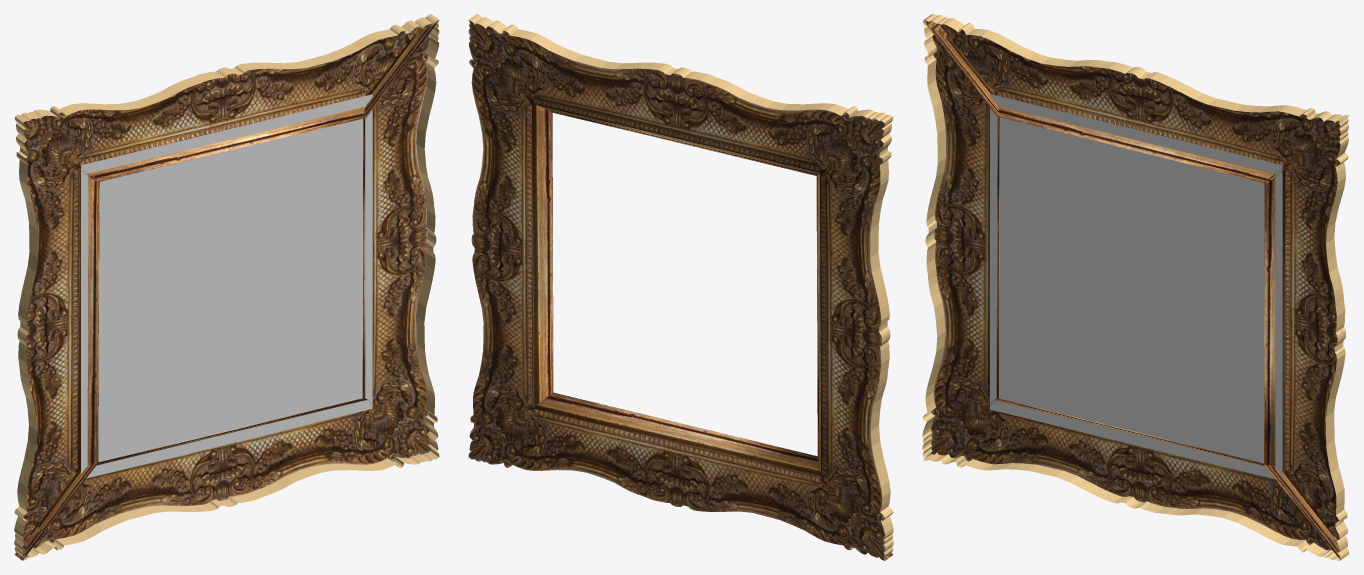
Rendered from frame.glb.
The picture shows the model from 3 angles, left to right: view 1: azimuth 30°, elevation 25°; view 2: azimuth 150°, elevation 25°; view 3: azimuth 330°, elevation 25°; orthographic projection.
Parts seen in each view (by area): view 1: kehys, Plane; view 2: kehys; view 3: kehys, Plane.
Part boxes in pixels (x1,y1,x2,y2): kehys: (14, 14, 439, 560); Plane: (81, 94, 372, 478); kehys: (468, 14, 893, 560); kehys: (922, 14, 1349, 560); Plane: (990, 94, 1282, 479).
Size of the model in its own units: 7.28 by 7.34 by 0.254.
1 material, 1 textured.
